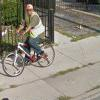Bicycle: (4, 28, 56, 83)
